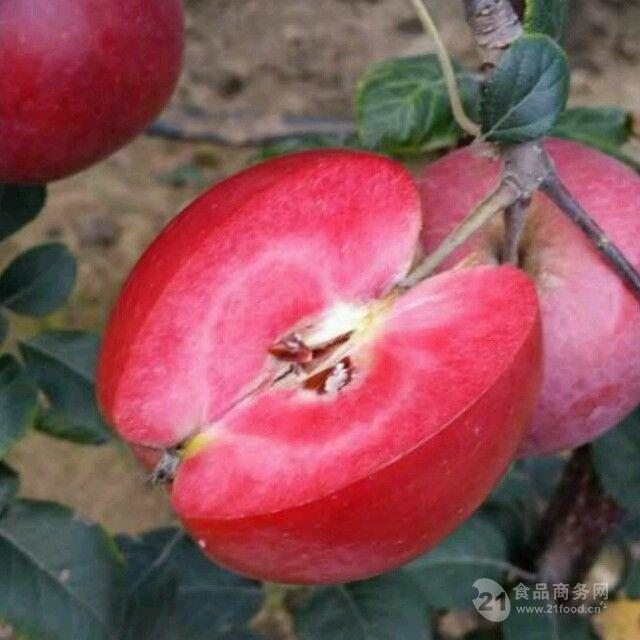apple: (93, 149, 541, 585), (415, 136, 640, 458), (1, 3, 186, 192)
